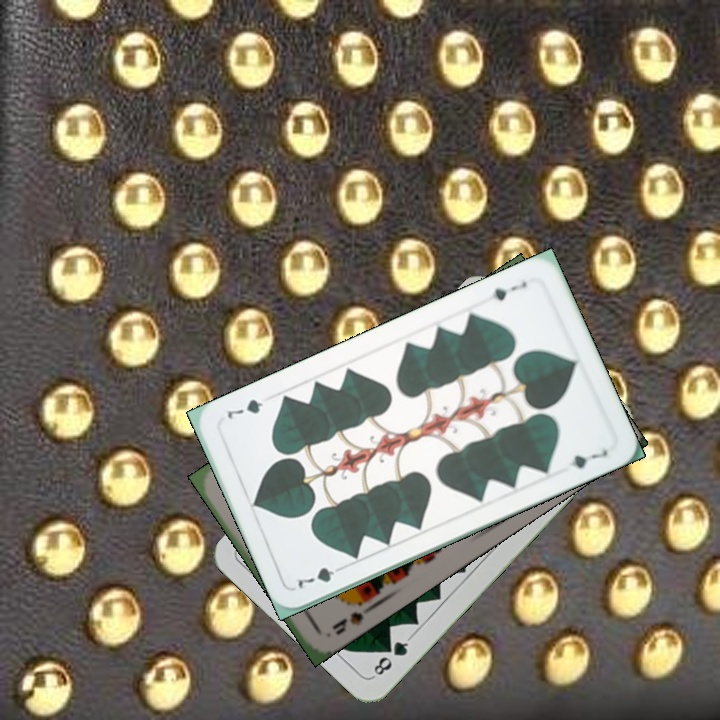G7: (293, 561, 348, 592), (481, 277, 530, 305)
G8: (368, 633, 414, 680)
S9: (328, 593, 377, 638)
